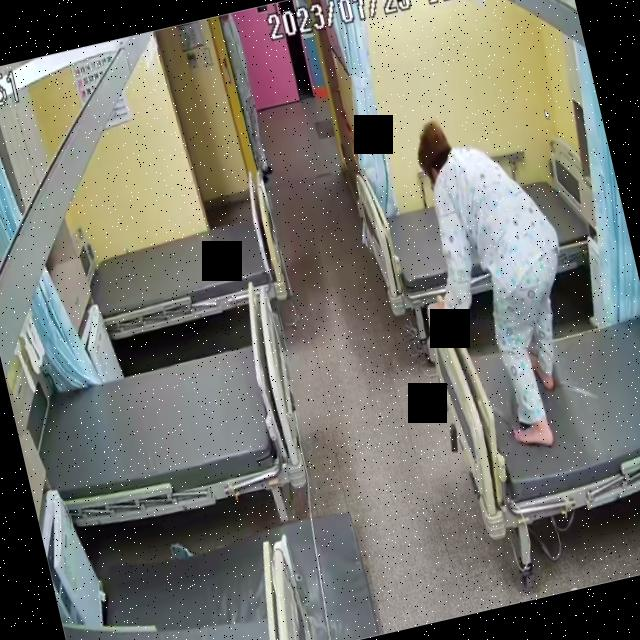bed: (418, 252, 640, 540), (21, 327, 312, 535), (356, 149, 611, 318), (82, 202, 288, 340)
danger: (386, 97, 608, 466)
patient: (387, 97, 610, 474)
